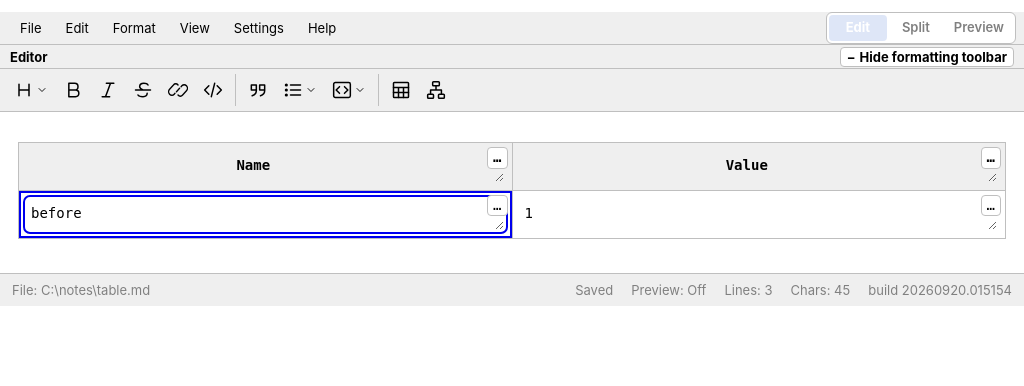
Test case: App table editing lifecycle › does not restore cell focus after a failed save
Expected: the element with class "koharu-table-wrap" is shown, [18, 142, 1006, 239]
Replace the text in the text box named "Row 1, column 1" with "after" at (265, 214), box [27, 199, 504, 230]
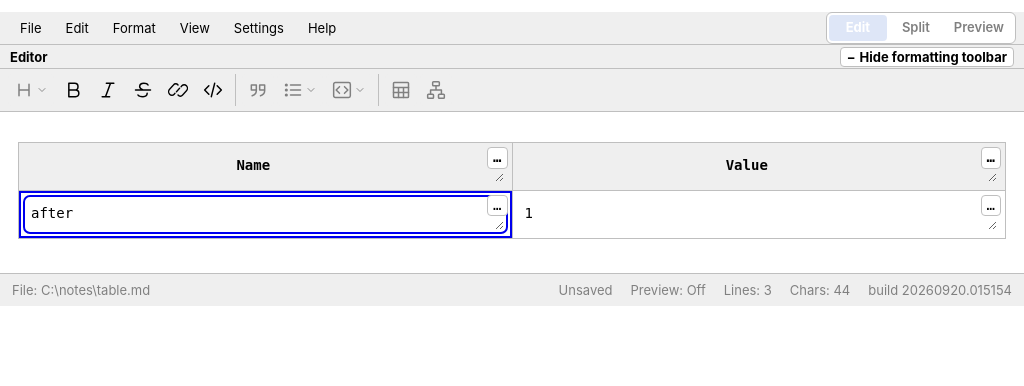
Press s in the text box named "Row 1, column 1", box [27, 199, 504, 230]
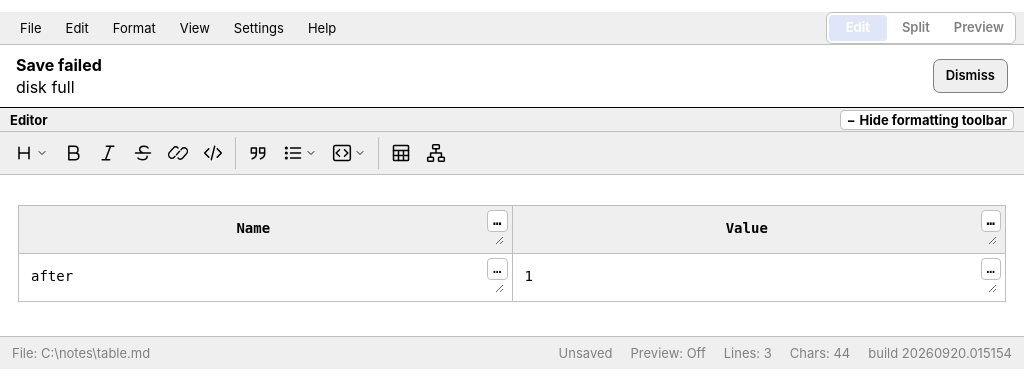
Now the message "Save failed disk full Dismiss" is shown, box [0, 45, 1023, 108]
